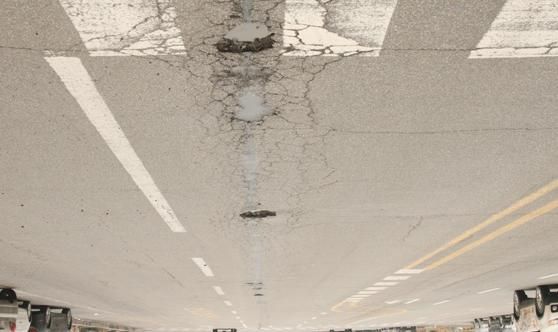pothole: (208, 16, 281, 61), (233, 204, 288, 231)
